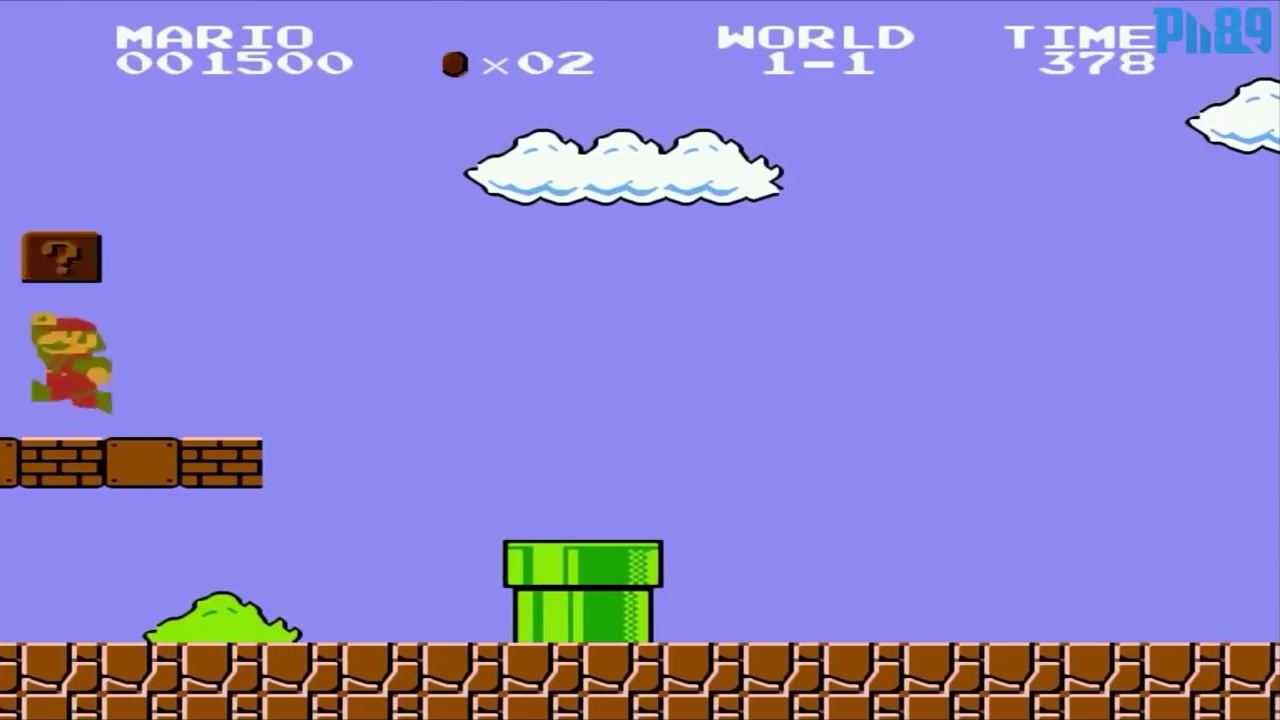mario: (19, 308, 125, 418)
